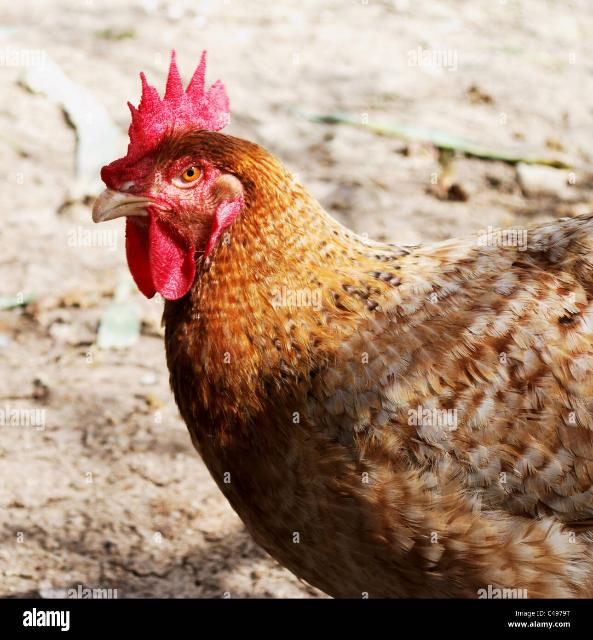Chicken: (90, 47, 593, 594)
